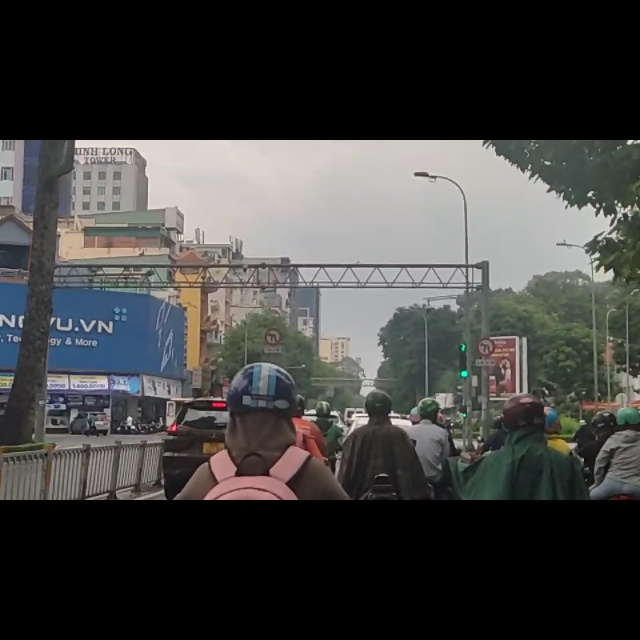bien_cam: (474, 351, 497, 388), (263, 334, 281, 366)
